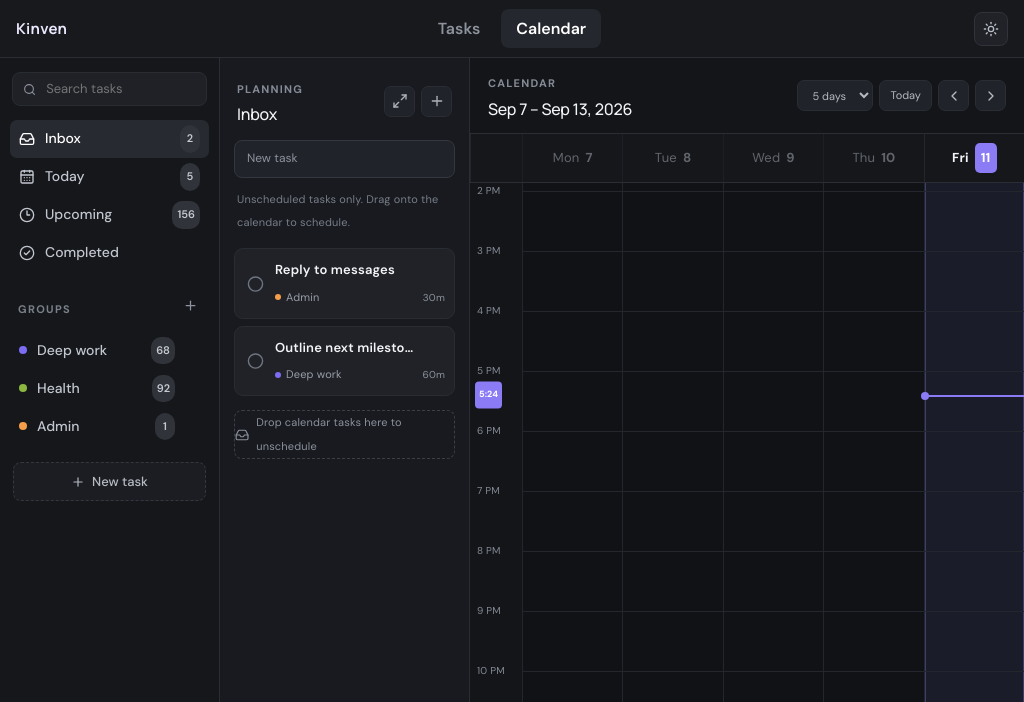
Test case: task list regressions › batch assigns a group in select mode
(page scrolled)
Click the button "Tasks" at coordinates (459, 28), box [423, 9, 495, 48]
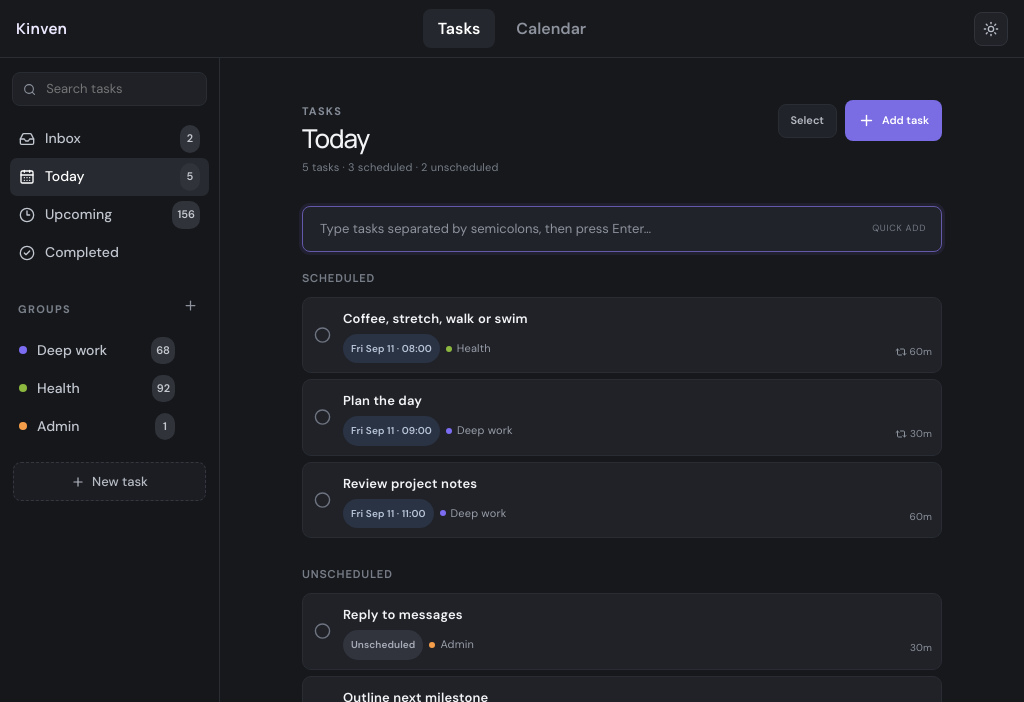
Click the button "Deep work 68" at coordinates (97, 350), box [10, 331, 184, 369]
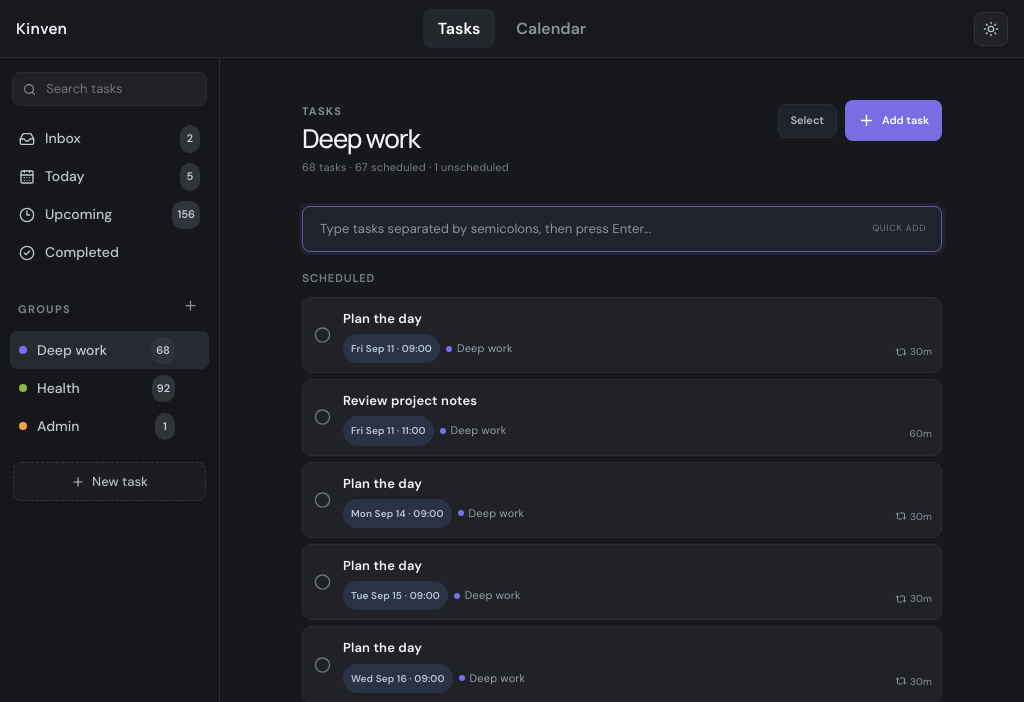
Click the button "Select" at coordinates (807, 121), box [778, 104, 837, 138]
(page scrolled)
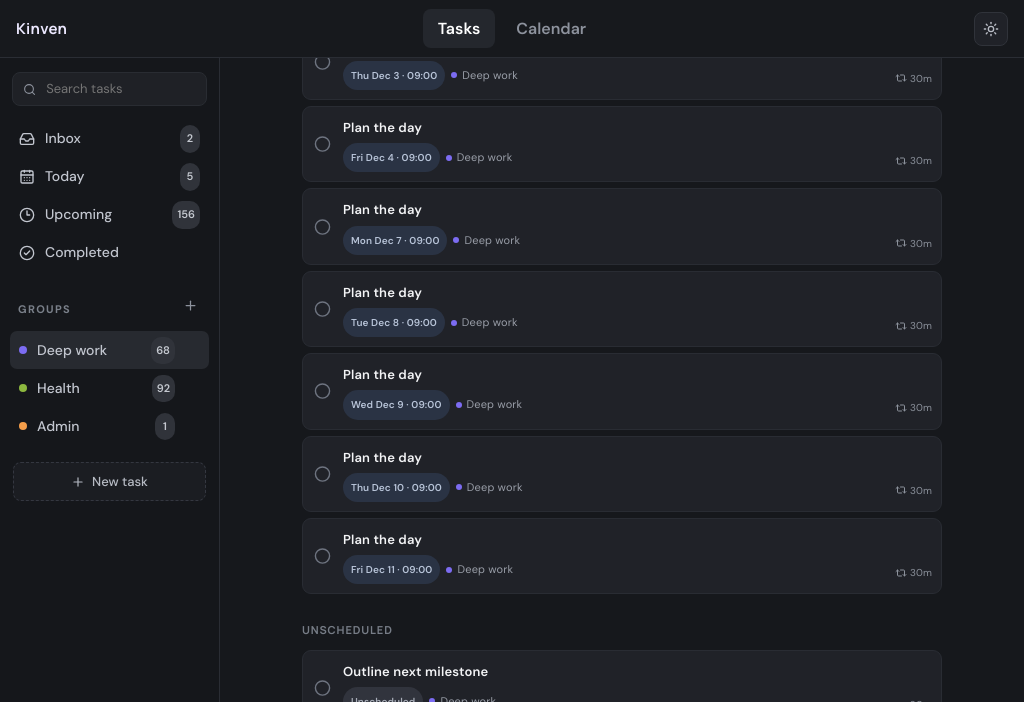
Click the text "Outline next milestone" at coordinates (416, 671), box [343, 663, 488, 680]
(page scrolled)
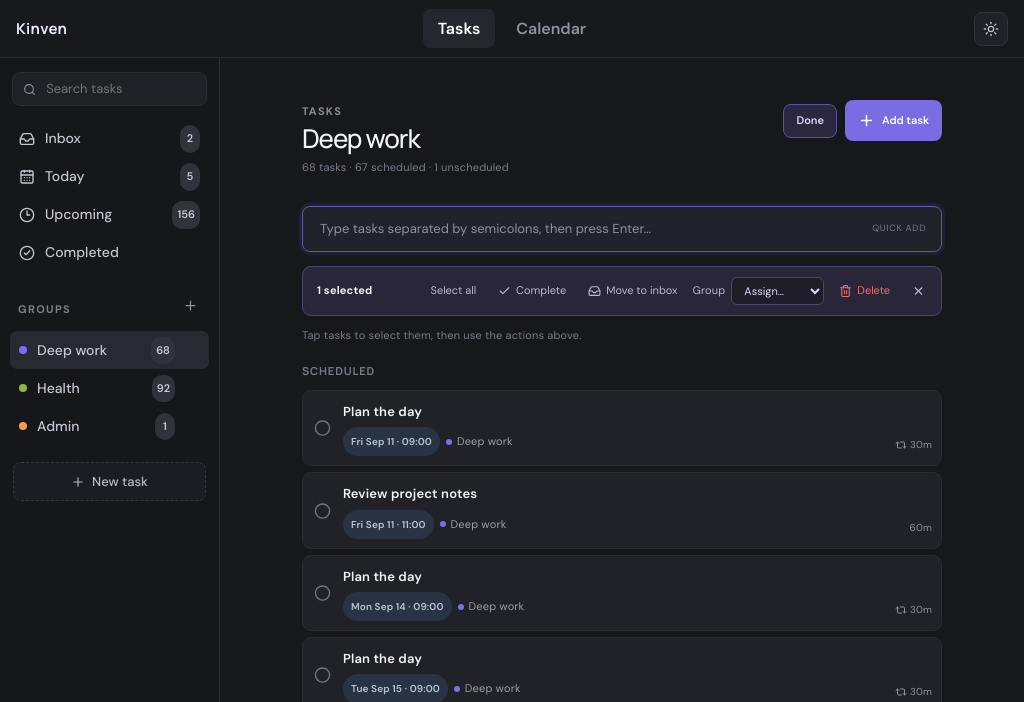
Select "Health" in the dropdown labelled "Group" at coordinates (778, 291), box [731, 277, 824, 305]
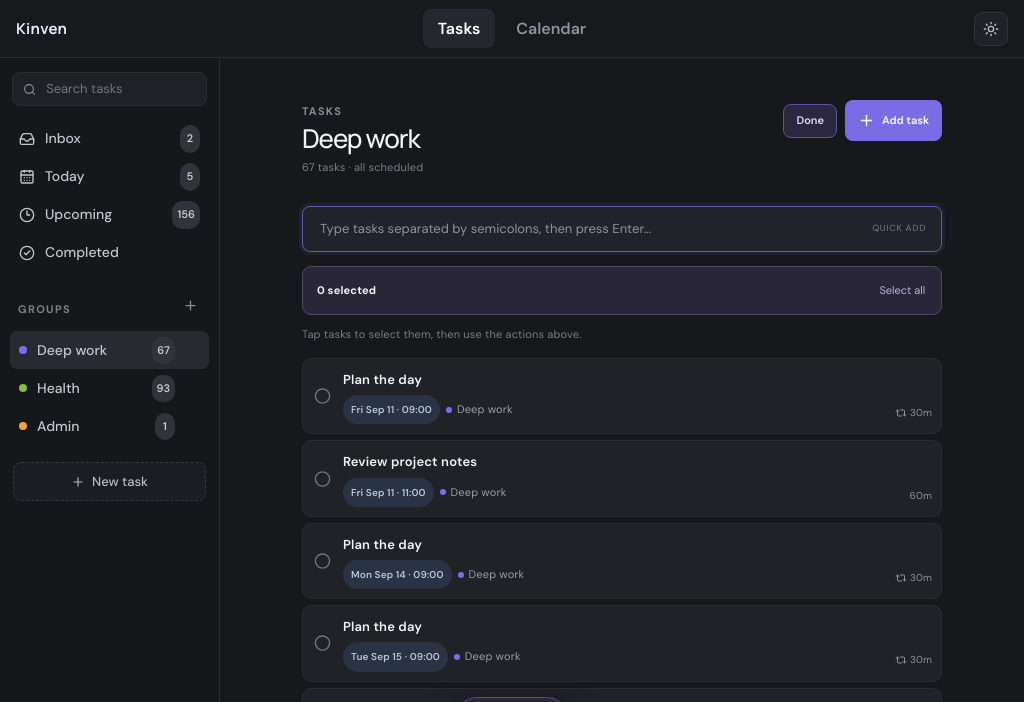
Check: the text "Outline next milestone" is not shown
Click the button "Health 93" at coordinates (97, 388), box [10, 369, 184, 407]
(page scrolled)
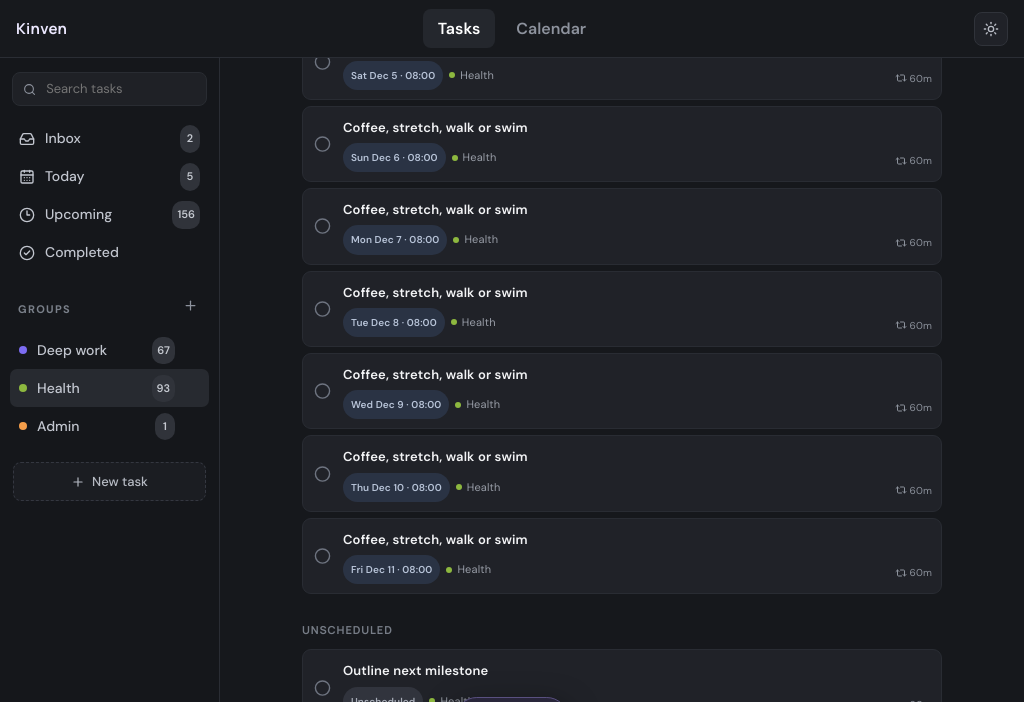
Check: the text "Outline next milestone" is shown, box [343, 662, 488, 679]
